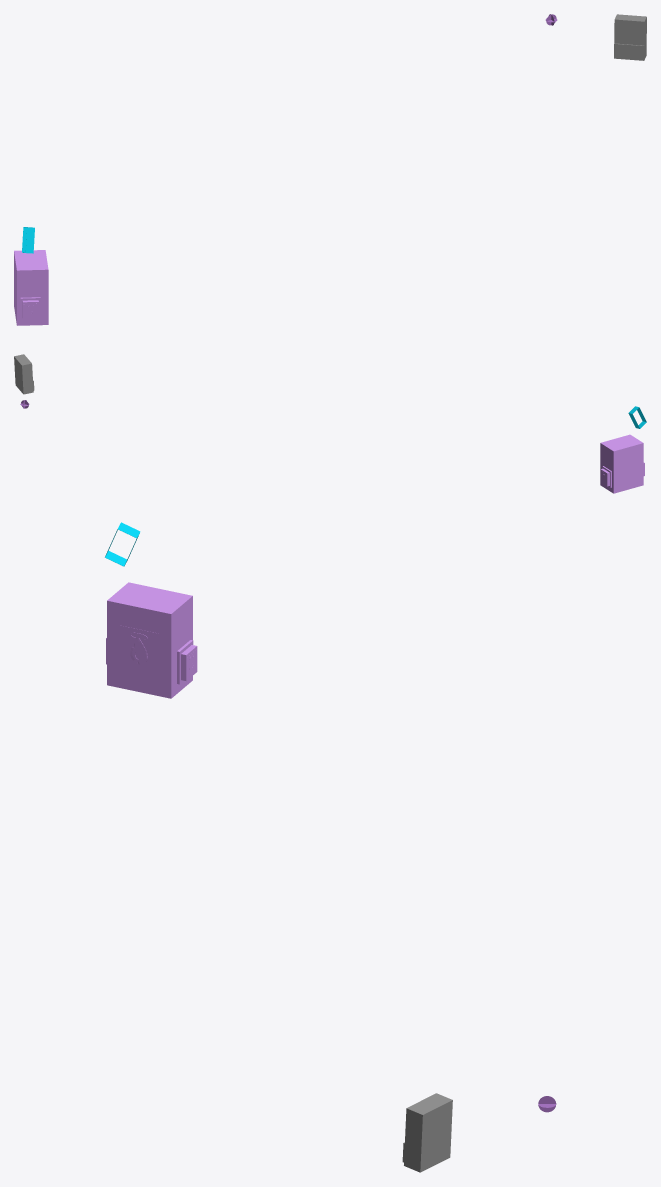
File: tile_141.glb
The picture shows the model from 3 angles, top to bottom: view 1: azimuth 30°, elevation 25°; view 2: azimuth 150°, elevation 25°; view 3: azimuth 270°, elevation 25°; orthographic projection. The views are drawn at different scales.
Size of the model in its own units: 7.15 by 0.925 by 2.51.
